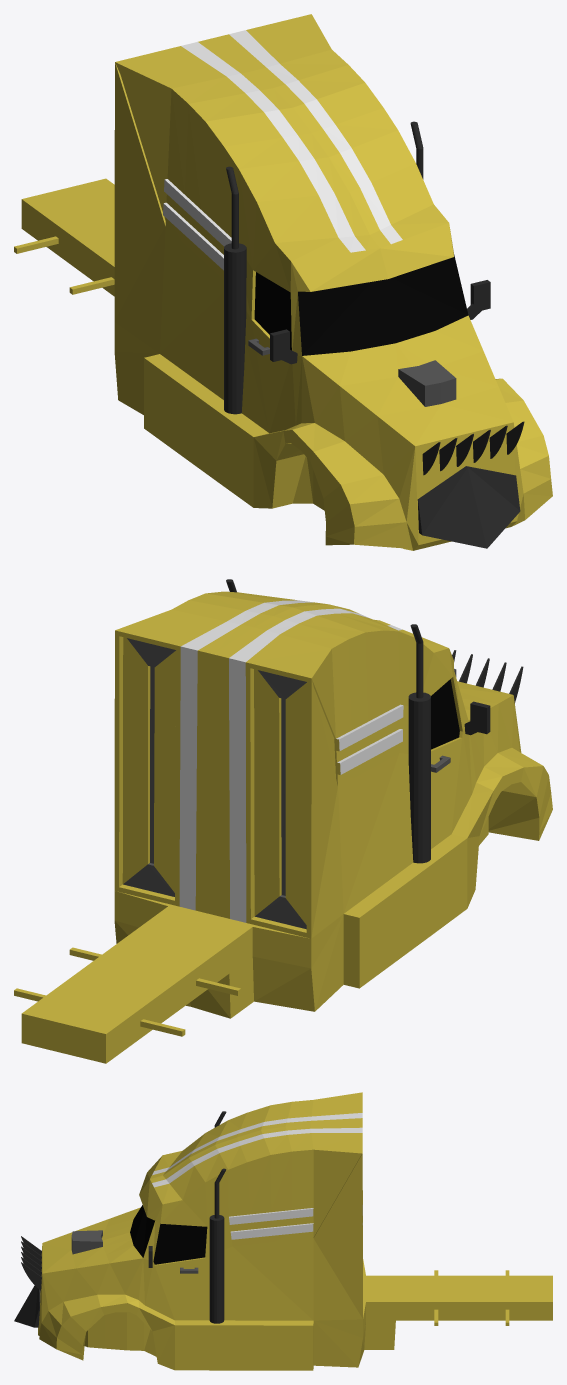
The model's file is truckobj-att13.fbx.
The picture shows the model from 3 angles, top to bottom: view 1: azimuth 30°, elevation 25°; view 2: azimuth 150°, elevation 25°; view 3: azimuth 270°, elevation 25°; orthographic projection. The views are drawn at different scales.
Parts seen in each view (by area): view 1: Cube.016; view 2: Cube.016; view 3: Cube.016.
Boxes of the visible parts, bbox=[...] form: Cube.016: bbox=[14, 14, 552, 550]; Cube.016: bbox=[14, 579, 552, 1063]; Cube.016: bbox=[14, 1092, 552, 1370].
Size of the model in its own units: 260 by 383 by 873.
